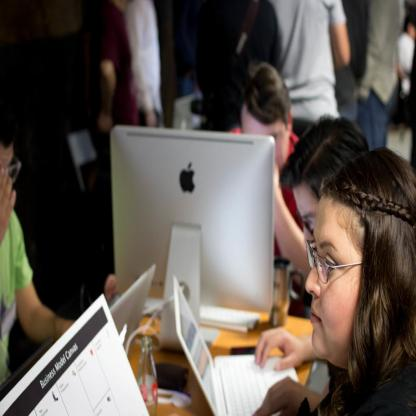board: (172, 273, 300, 416)
